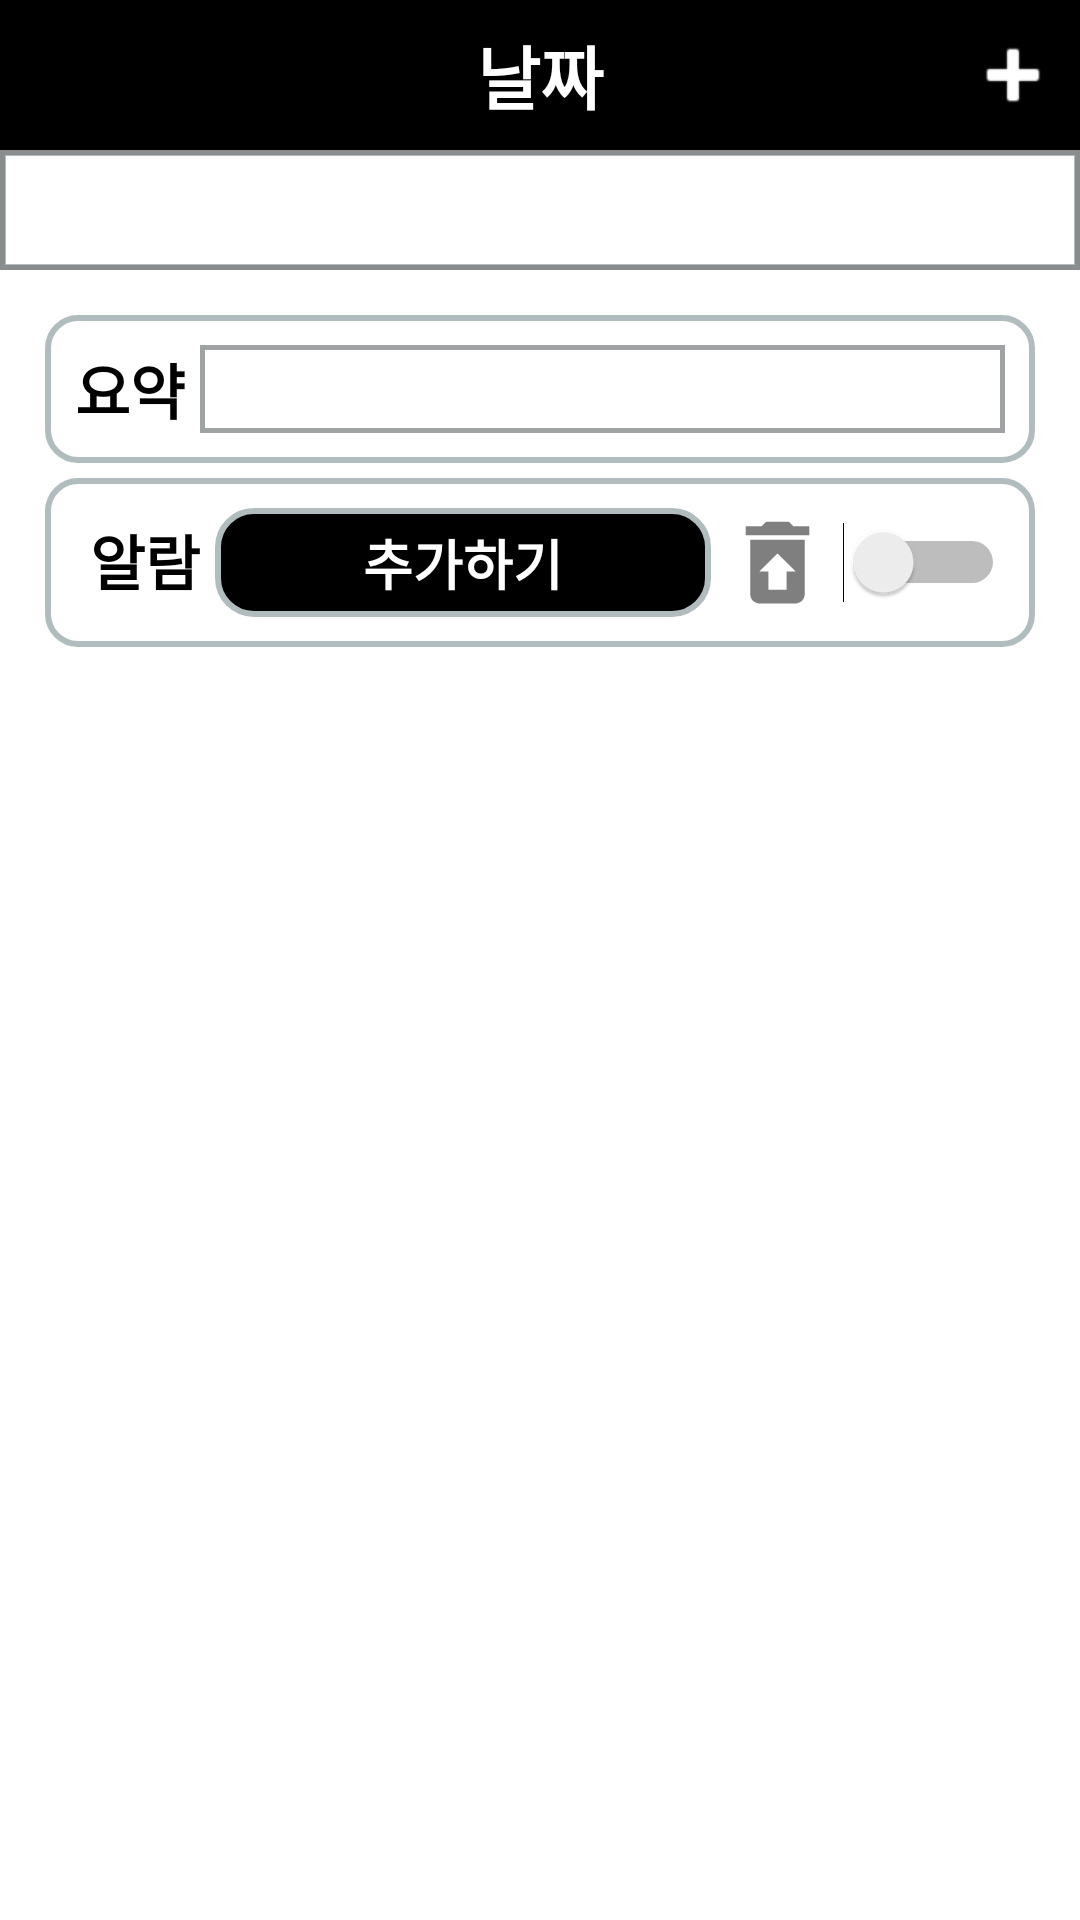

Point at icon controls on the screen. Image size 1080*1920, points as point (x, y).
add: point (1013, 75)
trash: point (777, 562)
